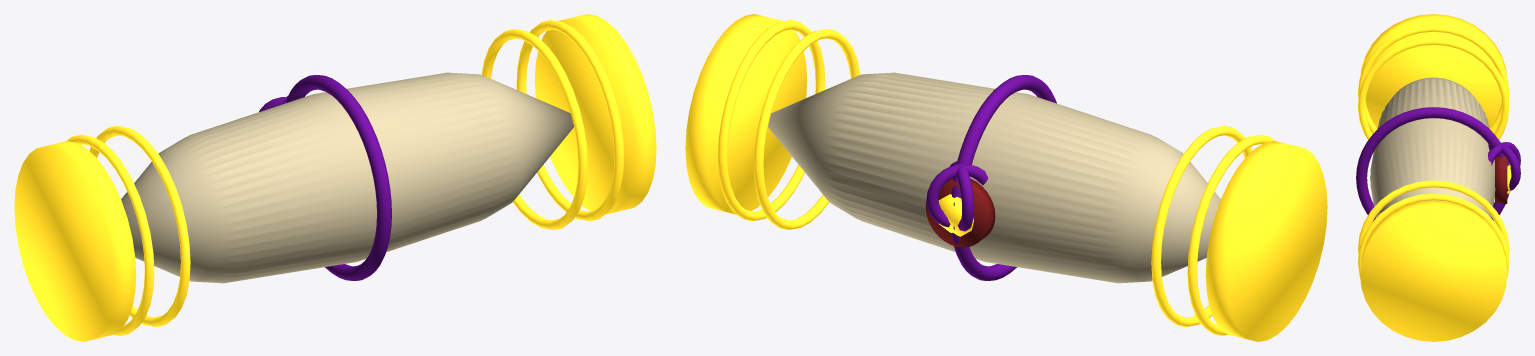
The model's file is eecohm_diploma_scroll.glb.
The picture shows the model from 3 angles, left to right: view 1: azimuth 30°, elevation 25°; view 2: azimuth 150°, elevation 25°; view 3: azimuth 270°, elevation 25°; orthographic projection. The views are drawn at different scales.
Parts seen in each view (by area): view 1: Scroll_Body, Scroll_CapL, Scroll_CapR, Scroll_Ribbon, Scroll_Ring_0.65, Scroll_Ring_0.55, Scroll_Ring_-0.55, Scroll_Ring_-0.65; view 2: Scroll_Body, Scroll_CapL, Scroll_CapR, Scroll_Ring_0.65, Scroll_Ring_0.55, Scroll_Ribbon, Scroll_Ring_-0.55, Scroll_Ring_-0.65, Scroll_WaxSeal, Scroll_Bow_-45, Scroll_Bow_45, Scroll_WaxStar; view 3: Scroll_CapR, Scroll_Body, Scroll_CapL, Scroll_Ribbon, Scroll_Ring_-0.55, Scroll_Ring_-0.65, Scroll_Ring_0.55, Scroll_Ring_0.65, Scroll_WaxSeal, Scroll_Bow_-45, Scroll_Bow_45.
Part boxes in pixels (x1,y1,x2,y2): Scroll_Body: [121, 72, 573, 283]; Scroll_CapL: [14, 141, 136, 341]; Scroll_CapR: [534, 14, 656, 214]; Scroll_Ribbon: [285, 75, 391, 280]; Scroll_Ring_0.65: [516, 20, 624, 221]; Scroll_Ring_0.55: [481, 29, 587, 229]; Scroll_Ring_-0.55: [89, 126, 190, 326]; Scroll_Ring_-0.65: [67, 134, 154, 335]; Scroll_Body: [768, 72, 1220, 283]; Scroll_CapL: [1205, 141, 1327, 341]; Scroll_CapR: [685, 14, 807, 214]; Scroll_Ring_0.65: [717, 20, 825, 221]; Scroll_Ring_0.55: [754, 29, 860, 229]; Scroll_Ribbon: [951, 75, 1056, 280]; Scroll_Ring_-0.55: [1151, 126, 1252, 326]; Scroll_Ring_-0.65: [1187, 134, 1274, 335]; Scroll_WaxSeal: [925, 178, 995, 247]; Scroll_Bow_-45: [926, 164, 988, 227]; Scroll_Bow_45: [950, 161, 974, 231]; Scroll_WaxStar: [938, 194, 973, 236]; Scroll_CapR: [1360, 200, 1507, 341]; Scroll_Body: [1370, 77, 1495, 217]; Scroll_CapL: [1360, 14, 1506, 128]; Scroll_Ribbon: [1356, 107, 1510, 220]; Scroll_Ring_-0.55: [1358, 38, 1509, 139]; Scroll_Ring_-0.65: [1358, 25, 1509, 133]; Scroll_Ring_0.55: [1358, 180, 1509, 254]; Scroll_Ring_0.65: [1358, 193, 1509, 277]; Scroll_WaxSeal: [1495, 156, 1507, 203]; Scroll_Bow_-45: [1488, 143, 1520, 191]; Scroll_Bow_45: [1488, 142, 1520, 175].
Bounding box in the file's own units: 1.5 × 0.506 × 0.5375.
